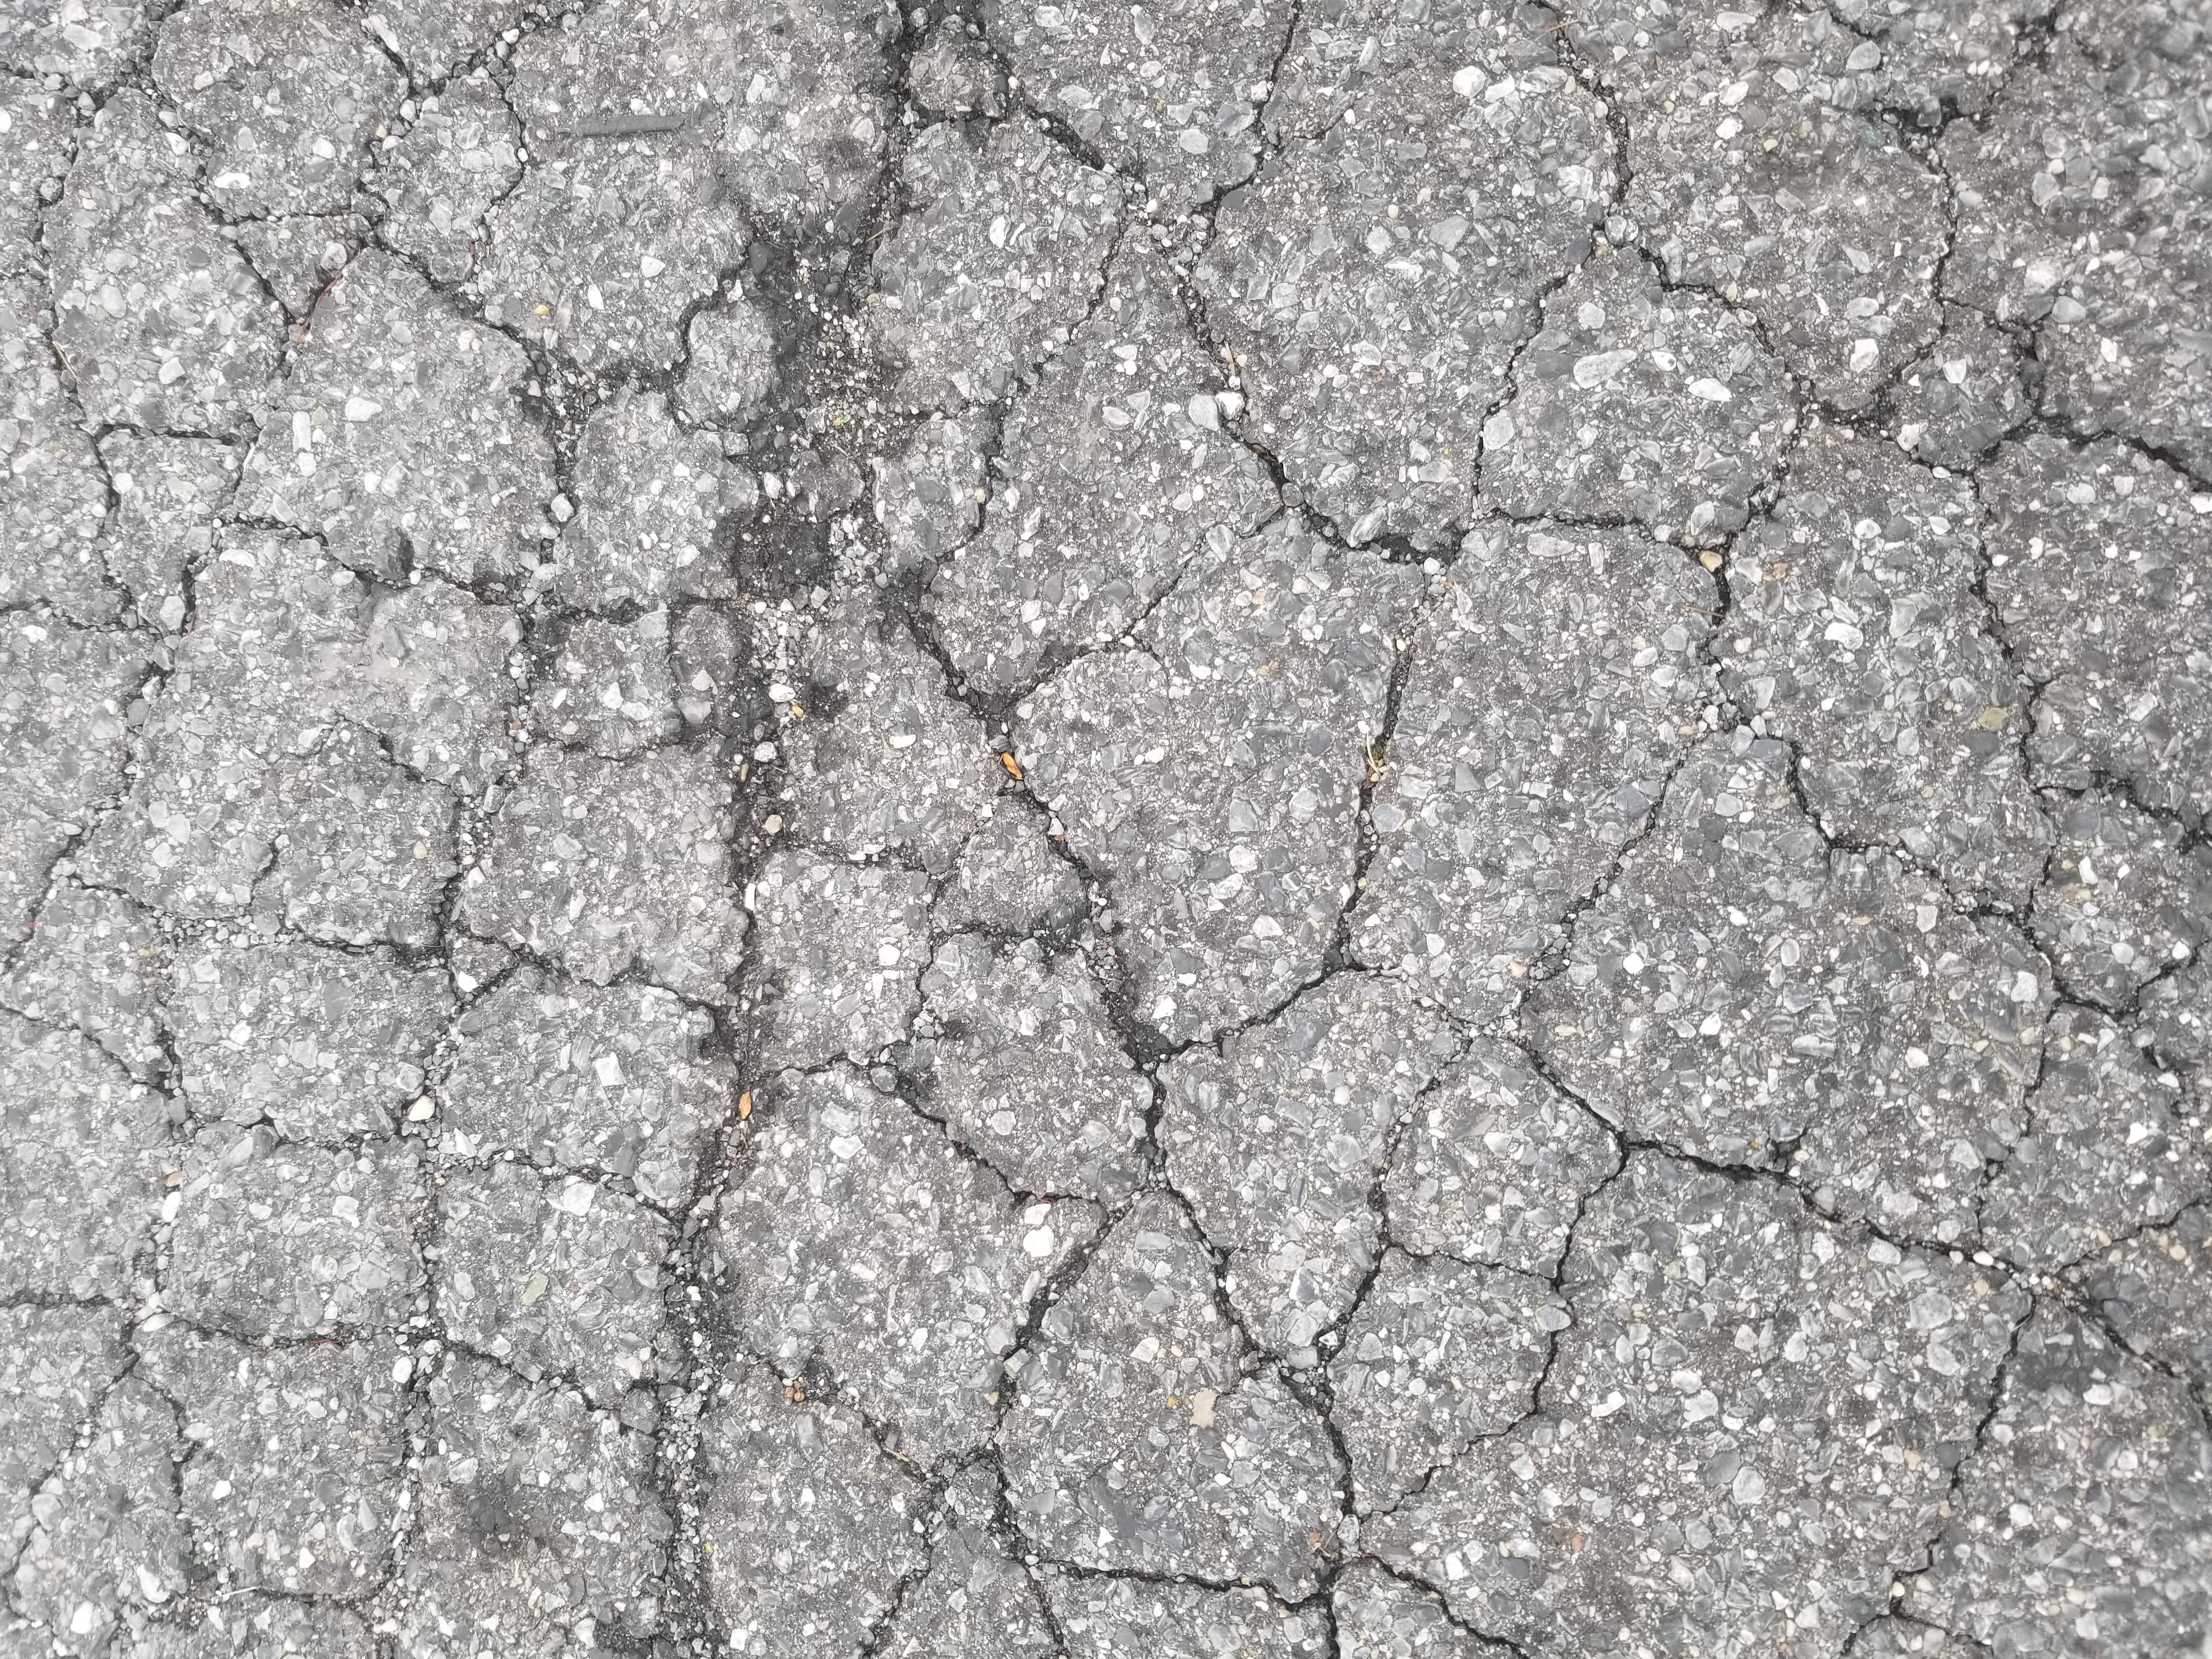alligator-crack: (89, 38, 2189, 1645)
